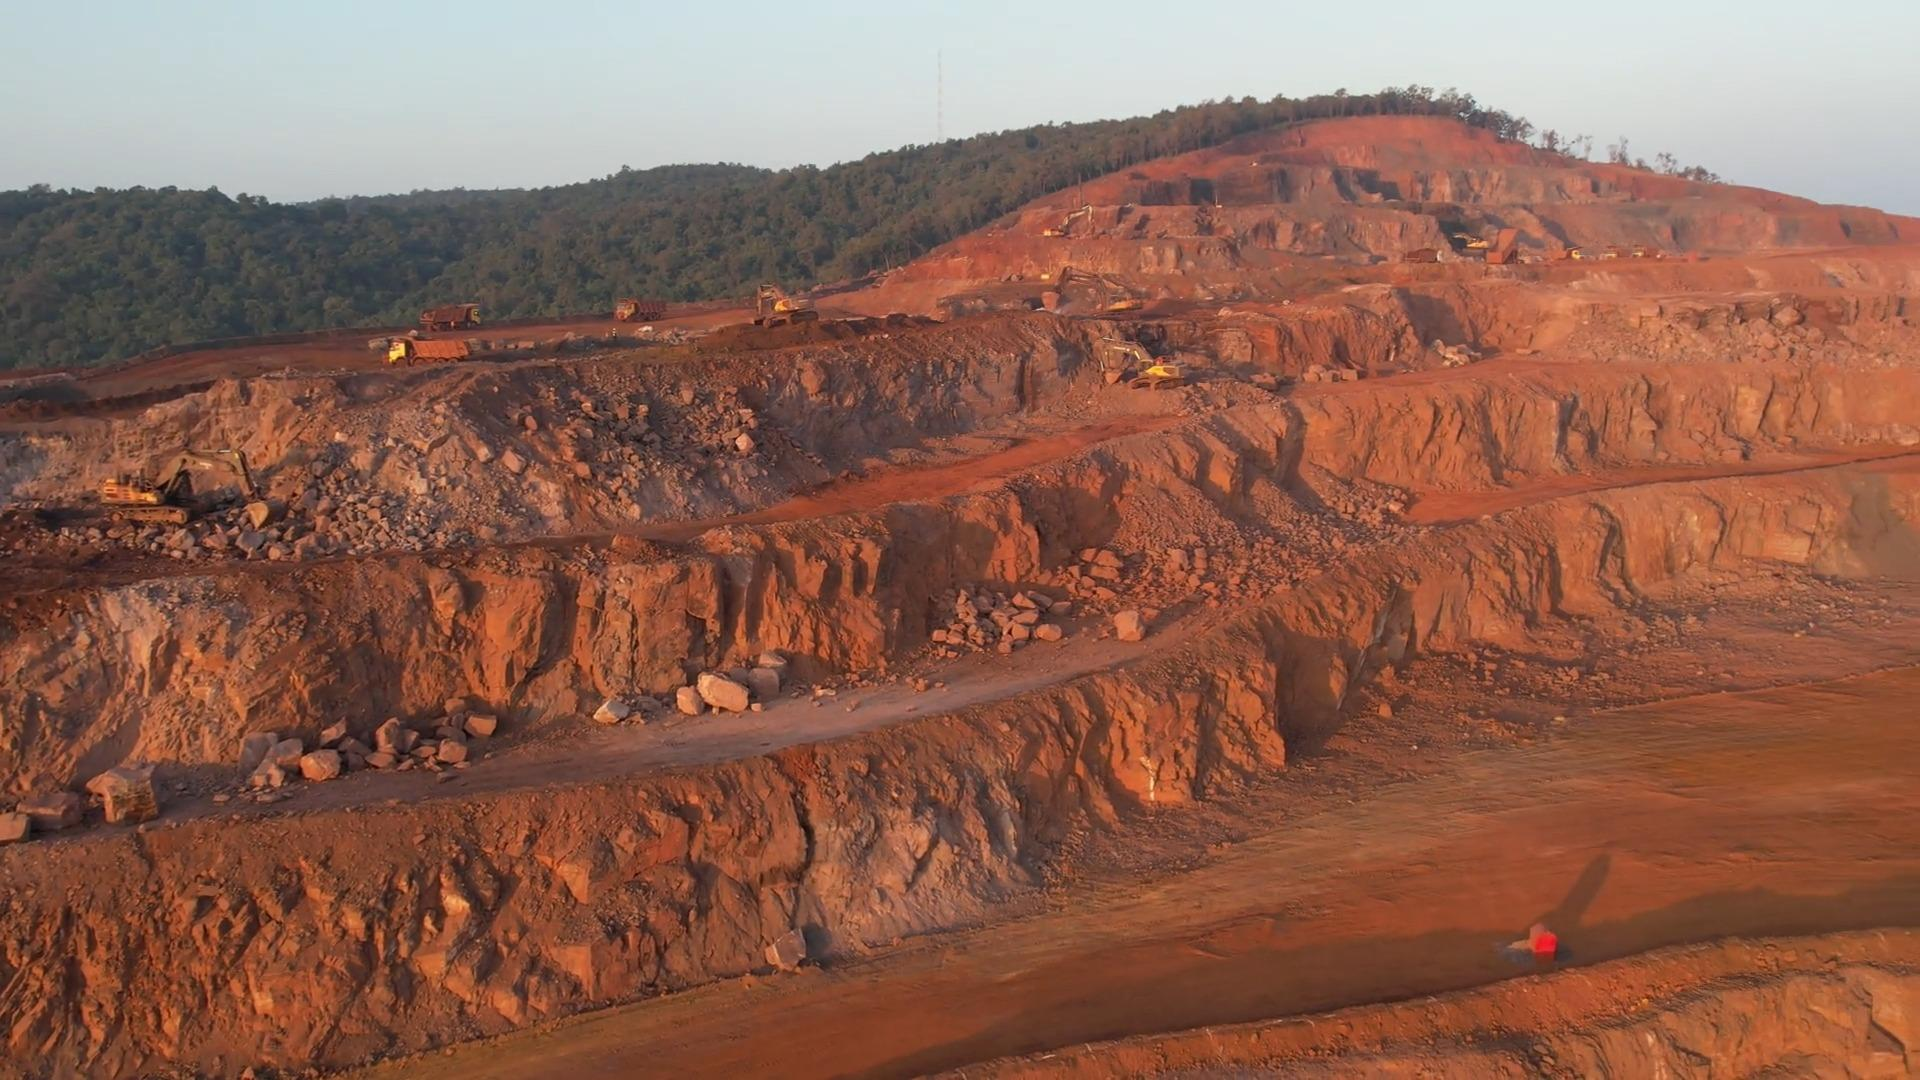excavator: (99, 452, 268, 522), (1096, 338, 1188, 386), (753, 282, 819, 327)
